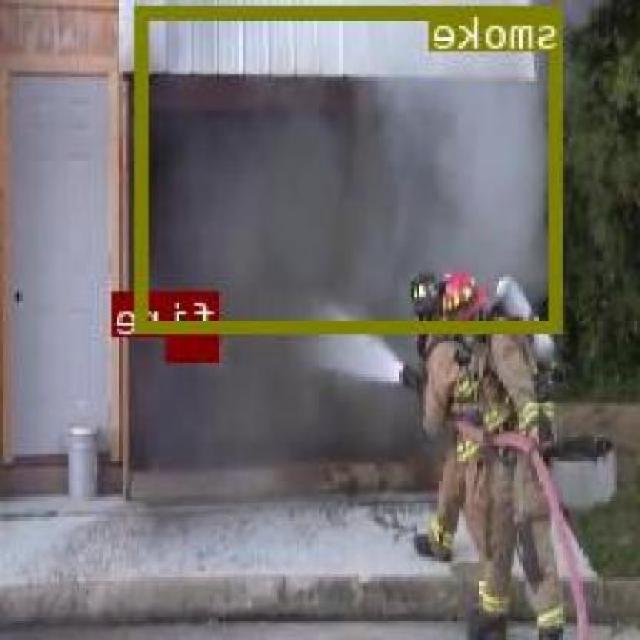Smoke: (139, 3, 564, 331)
